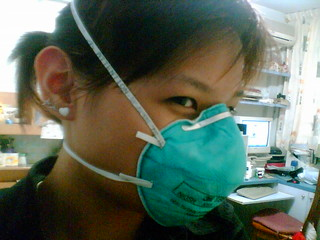n95: (133, 99, 249, 228)
